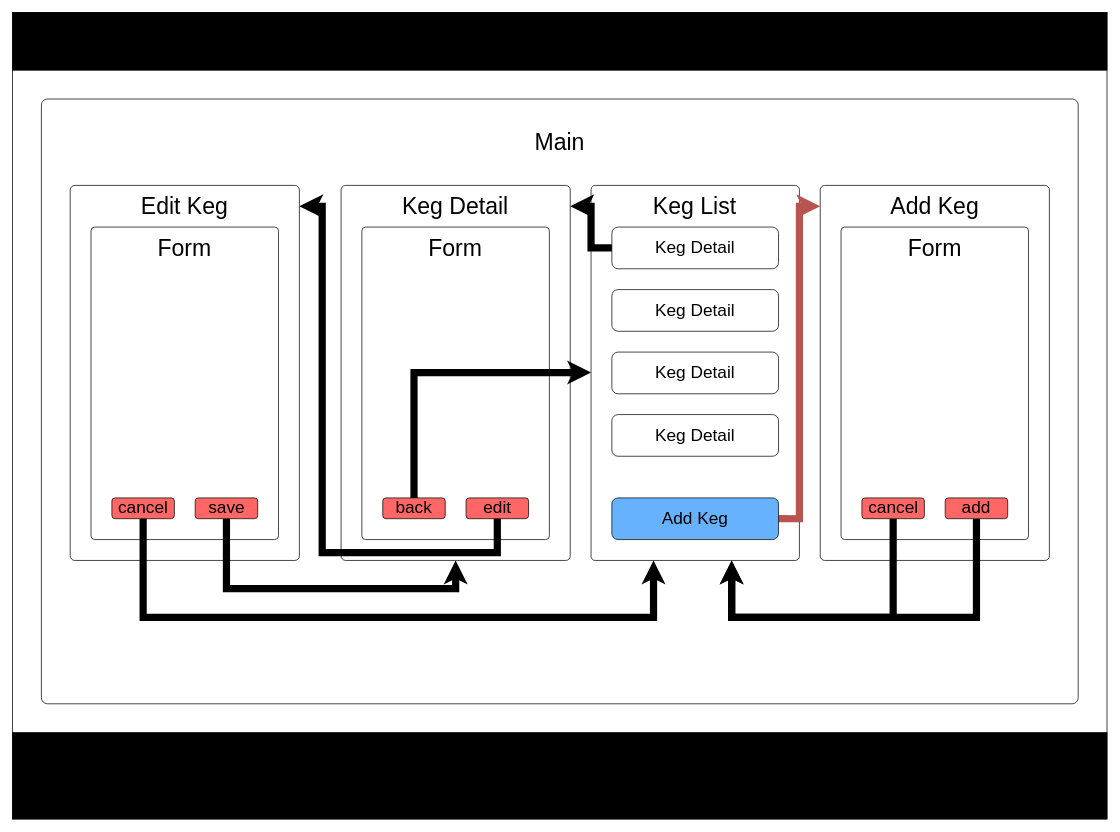
Image size: 1120x832. Some labels were removed from this diagram. The shapes that lost their labels are listed below. From the top down, each one's box as (x1, y1, x2, y2) in pixels, then its label:
(12, 12, 1107, 70): Header
(12, 732, 1107, 819): Footer
